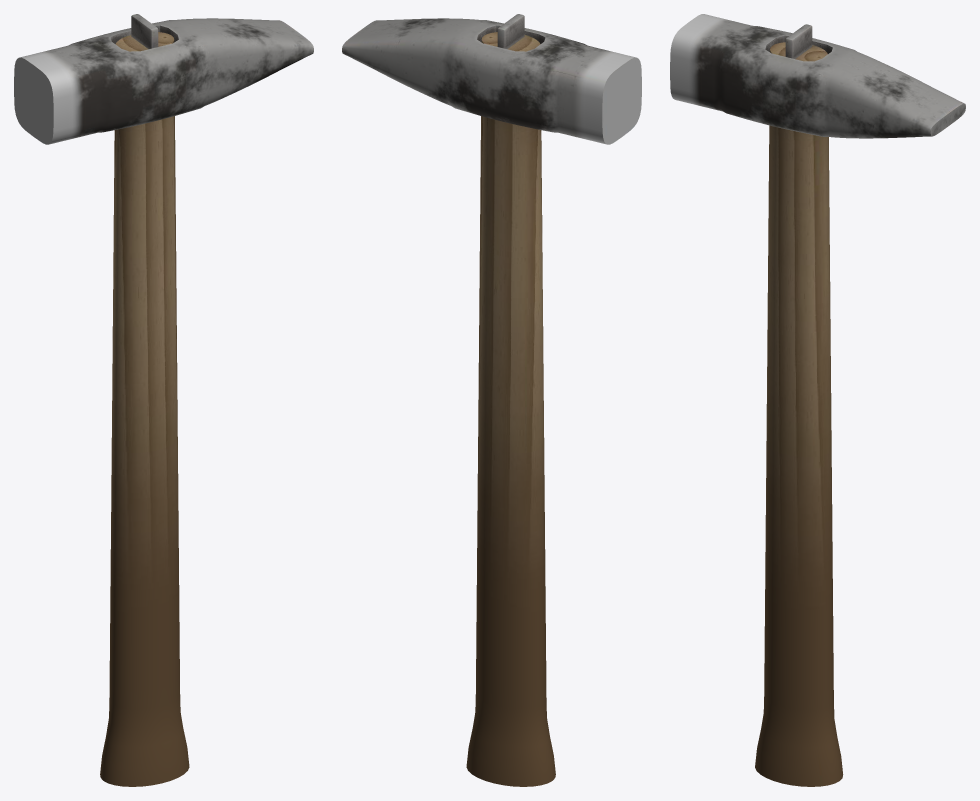
Rendered from smithing_hammer.glb.
The picture shows the model from 3 angles, left to right: view 1: azimuth 30°, elevation 25°; view 2: azimuth 150°, elevation 25°; view 3: azimuth 330°, elevation 25°; orthographic projection.
Visible parts, largest first — view 1: smithing_hammer; view 2: smithing_hammer; view 3: smithing_hammer.
Part boxes in pixels (bbox=[...]): smithing_hammer: bbox=[14, 14, 313, 786]; smithing_hammer: bbox=[342, 14, 641, 786]; smithing_hammer: bbox=[670, 14, 965, 786].
Size of the model in its own units: 0.13 by 0.355 by 0.04.
Materials: 1 (1 with a texture image).
